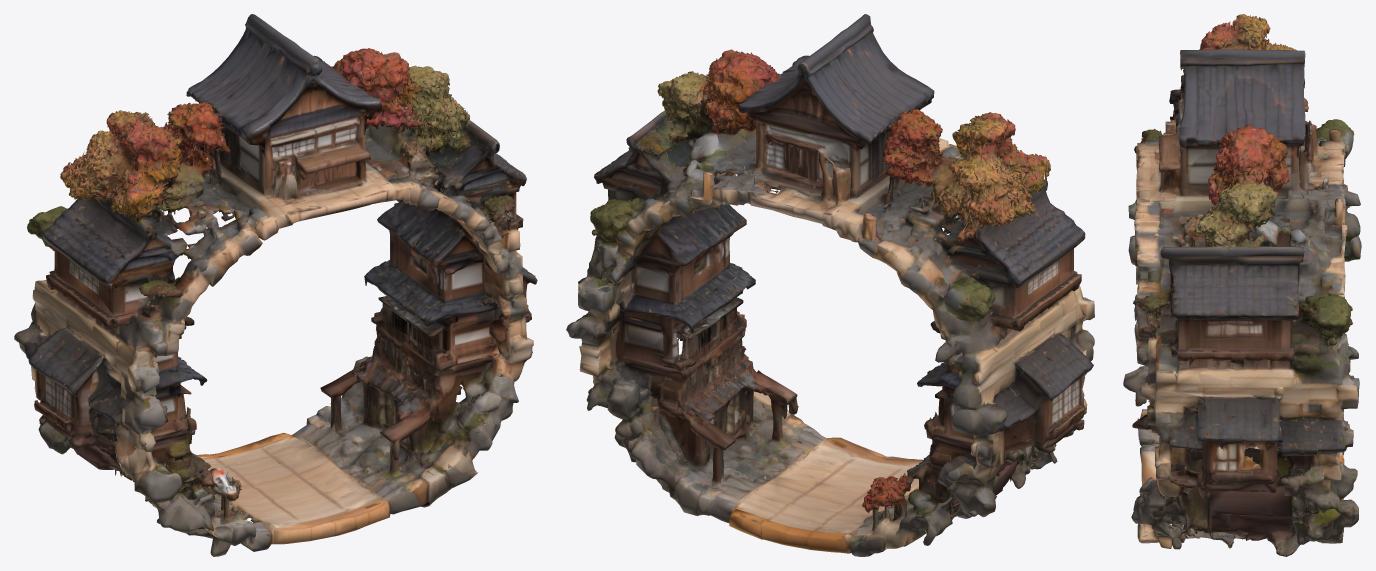
The model's file is Ring_Village_Diorama.glb.
3 renders of one model, left to right at view 1: azimuth 30°, elevation 25°; view 2: azimuth 150°, elevation 25°; view 3: azimuth 270°, elevation 25°, orthographic. The views are drawn at different scales.
Visible parts, largest first — view 1: Ring_Village_Diorama; view 2: Ring_Village_Diorama; view 3: Ring_Village_Diorama.
Boxes of the visible parts, x1,y1,x2,y2 form: Ring_Village_Diorama: [14, 14, 537, 556]; Ring_Village_Diorama: [566, 14, 1094, 556]; Ring_Village_Diorama: [1123, 14, 1361, 556].
Bounding box in the file's own units: 2 × 1.93 × 0.8982.
Materials: 1 (1 with a texture image).
